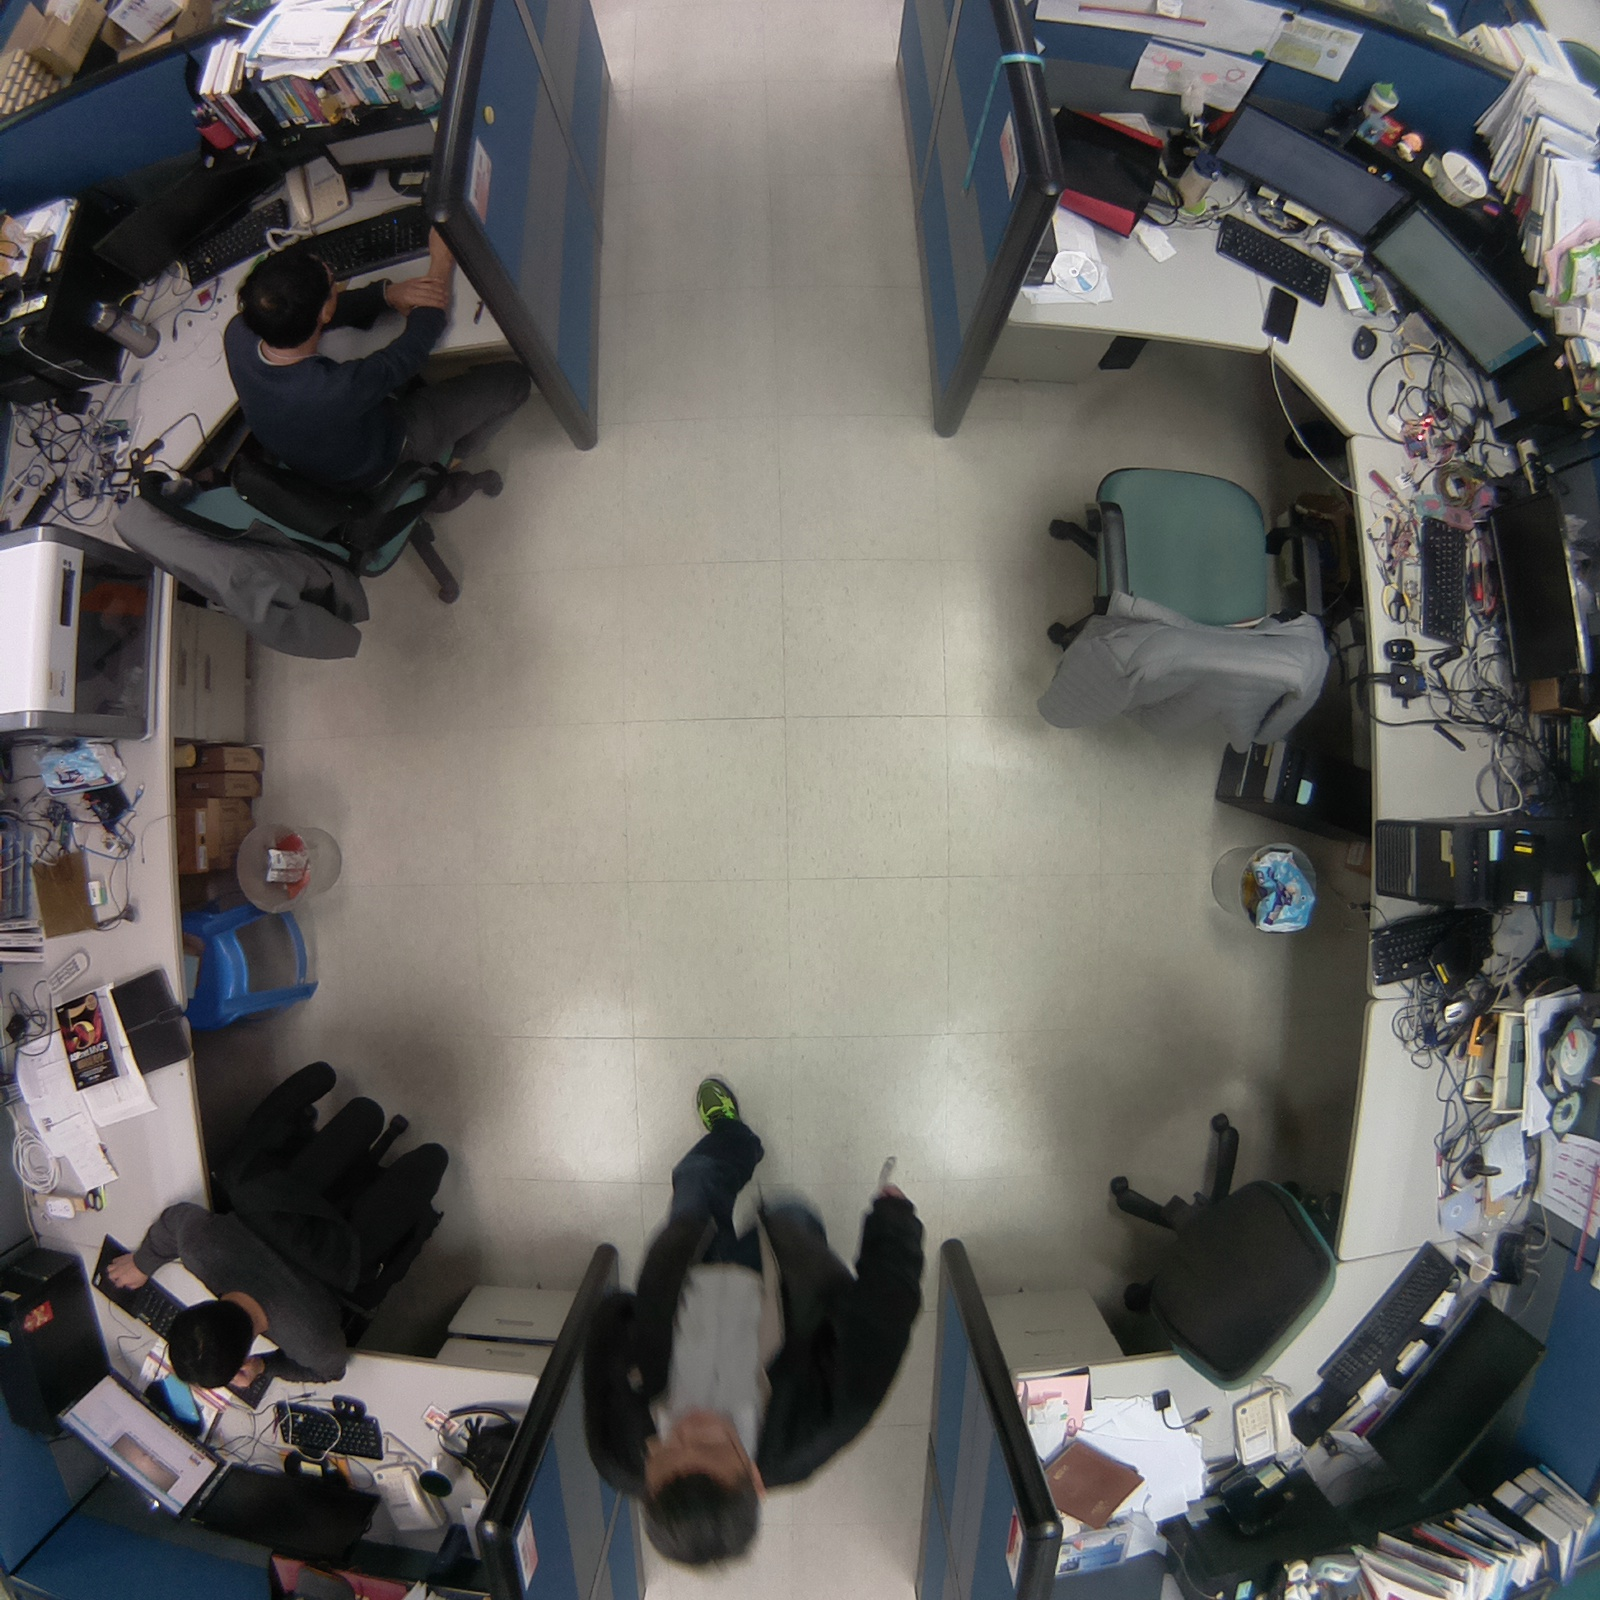chair: (1022, 429, 1345, 770), (1083, 1093, 1360, 1404)
head: (634, 1412, 778, 1578), (221, 242, 346, 355), (155, 1289, 270, 1389)
sitting: (99, 247, 537, 668), (98, 1047, 463, 1406)
walking: (573, 1051, 927, 1580)
